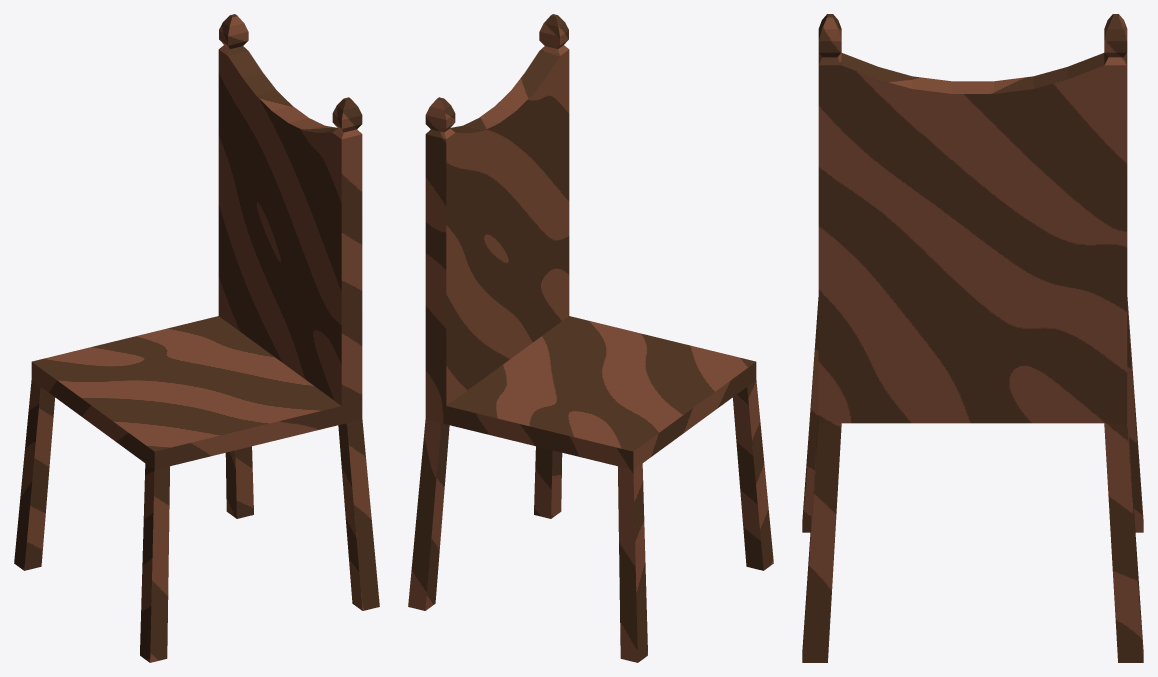
File: chair.fbx
3 views of the same model, side by side, from view 1: azimuth 30°, elevation 25°; view 2: azimuth 150°, elevation 25°; view 3: azimuth 270°, elevation 25° (orthographic). The views are drawn at different scales.
Parts seen in each view (by area): view 1: Cube; view 2: Cube; view 3: Cube.
Part boxes in pixels (left/top/right/bottom): Cube: left=14, top=14, right=379, bottom=662; Cube: left=408, top=14, right=773, bottom=662; Cube: left=802, top=14, right=1143, bottom=662.
Size of the model in its own units: 216 by 453 by 221.
Materials: 1 (1 with a texture image).
